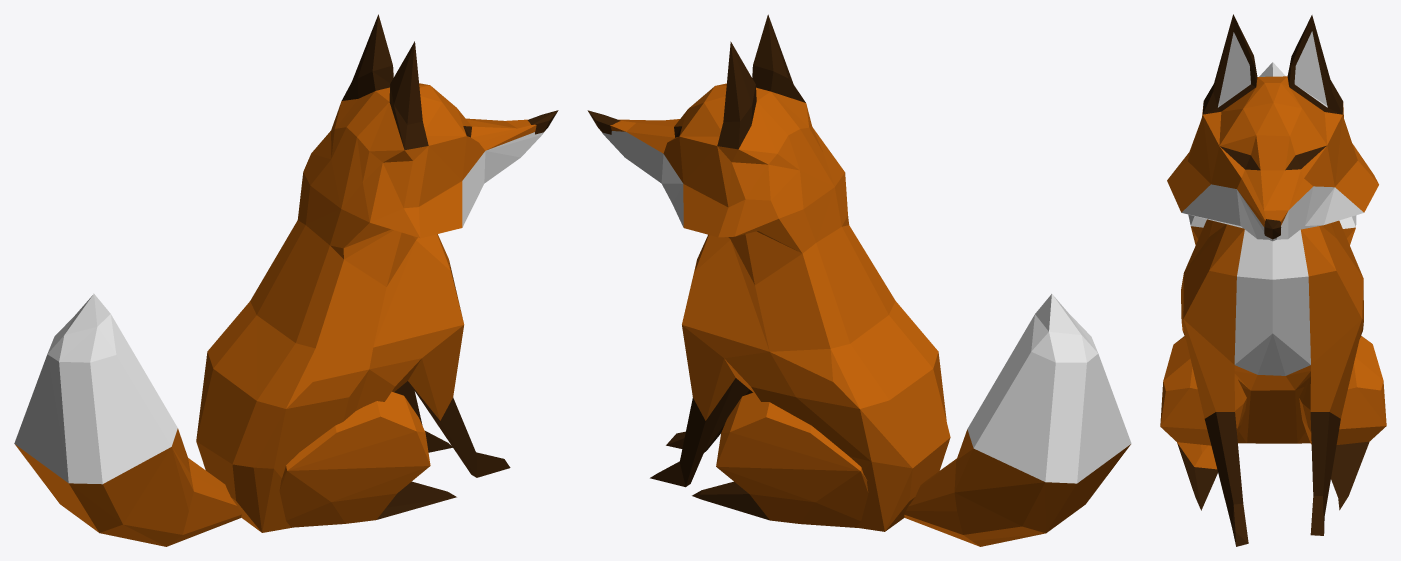
File: Fox.fbx
3 renders of one model, left to right at view 1: azimuth 30°, elevation 25°; view 2: azimuth 150°, elevation 25°; view 3: azimuth 270°, elevation 25°, orthographic. The views are drawn at different scales.
Parts seen in each view (by area): view 1: Fox; view 2: Fox; view 3: Fox.
Part boxes in pixels (x1,y1,x2,y2): Fox: (14, 14, 558, 546); Fox: (587, 14, 1131, 546); Fox: (1160, 14, 1386, 546).
Size of the model in its own units: 803 by 671 by 285.
